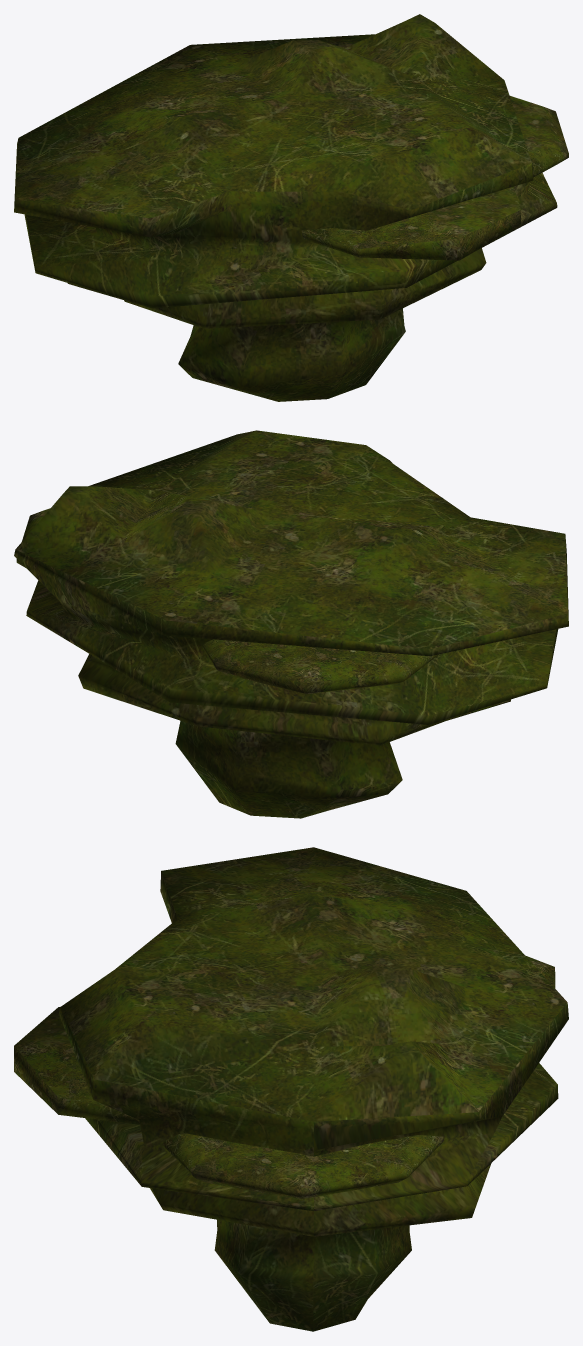
Rendered from environment_stone_shanti_001_c.FBX.
3 renders of one model, top to bottom at view 1: azimuth 30°, elevation 25°; view 2: azimuth 150°, elevation 25°; view 3: azimuth 270°, elevation 25°, orthographic. The views are drawn at different scales.
Parts seen in each view (by area): view 1: environment_stone_shanti_001_c; view 2: environment_stone_shanti_001_c; view 3: environment_stone_shanti_001_c.
Part boxes in pixels (x1=…): environment_stone_shanti_001_c: x1=14, y1=14, x2=568, y2=401; environment_stone_shanti_001_c: x1=14, y1=430, x2=568, y2=818; environment_stone_shanti_001_c: x1=14, y1=847, x2=568, y2=1331.
Size of the model in its own units: 1137 by 616 by 886.
